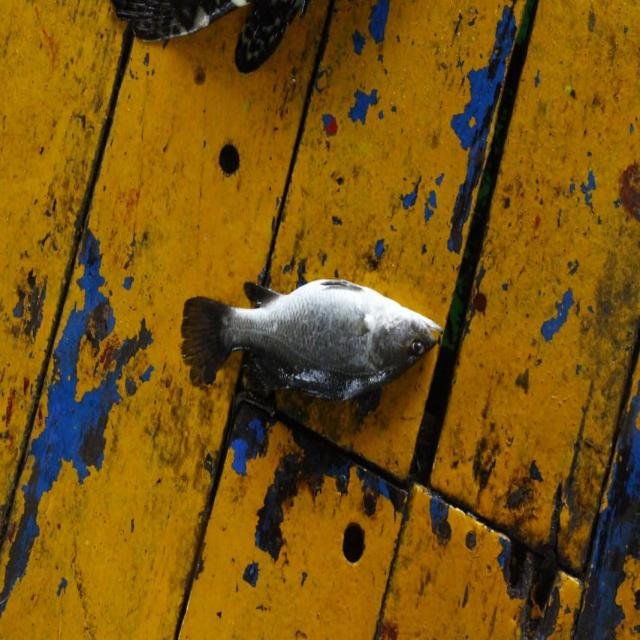ikan: (170, 266, 454, 430)
